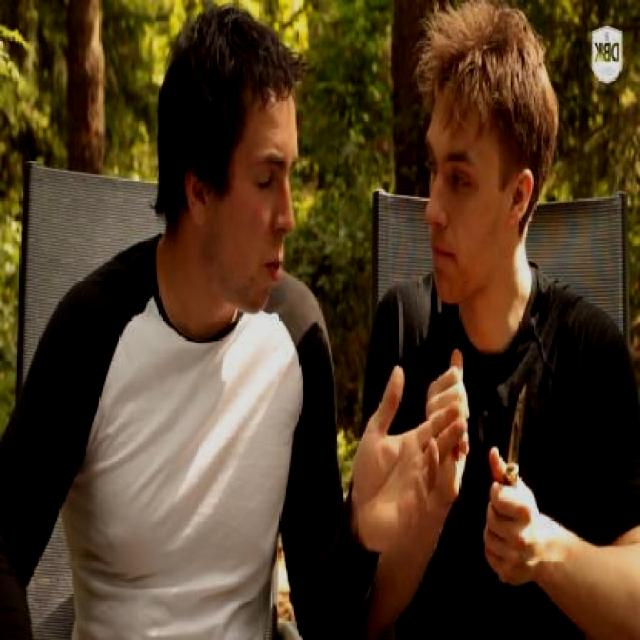knife: (477, 369, 540, 554)
